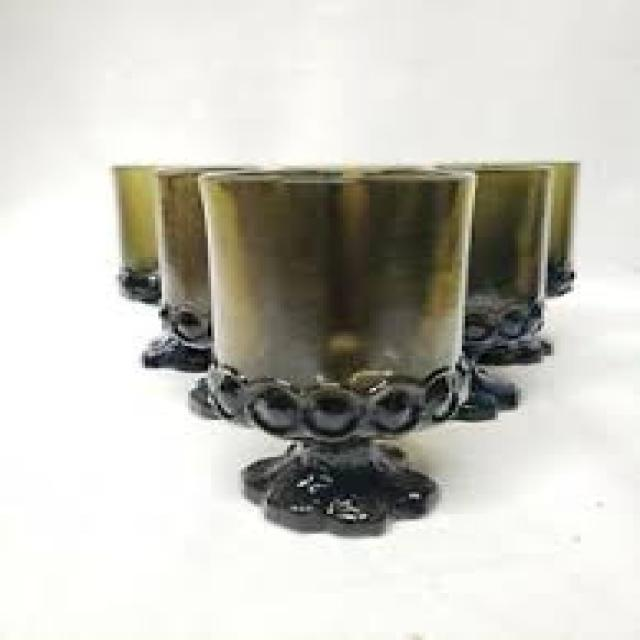Glass: (190, 168, 474, 538), (435, 164, 555, 370), (144, 163, 256, 374), (107, 160, 179, 304), (534, 159, 588, 297)
